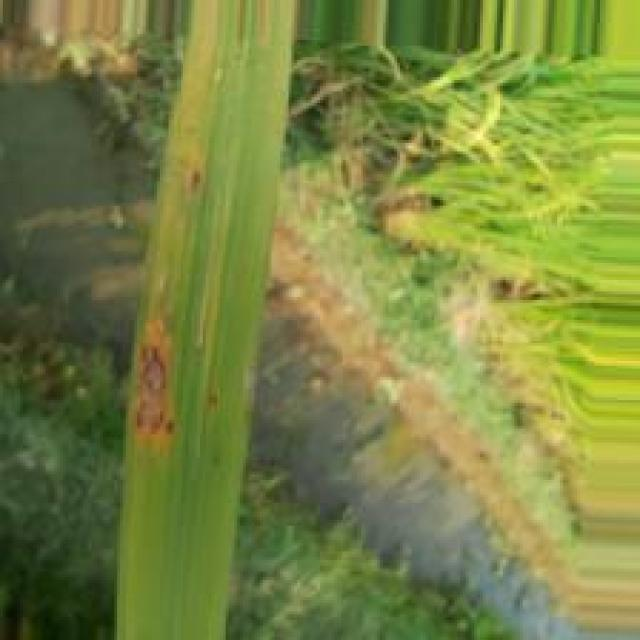Leaf_Blast: (128, 315, 187, 459)
